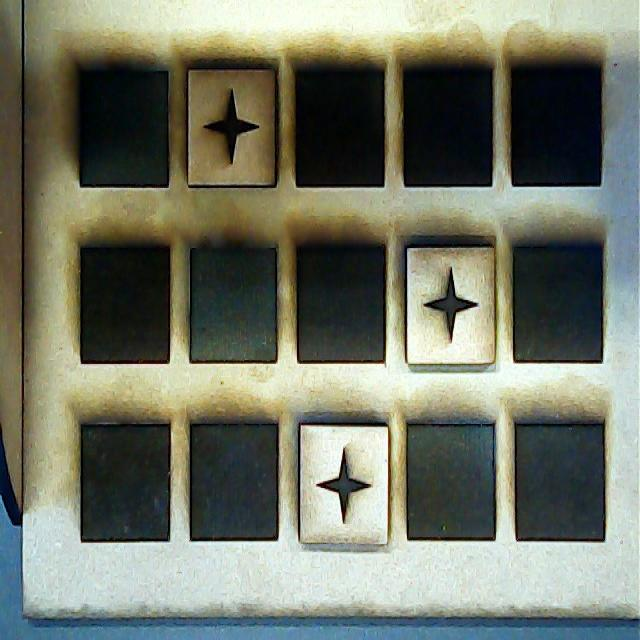star: (184, 61, 284, 187), (404, 235, 496, 365), (298, 422, 391, 543)
